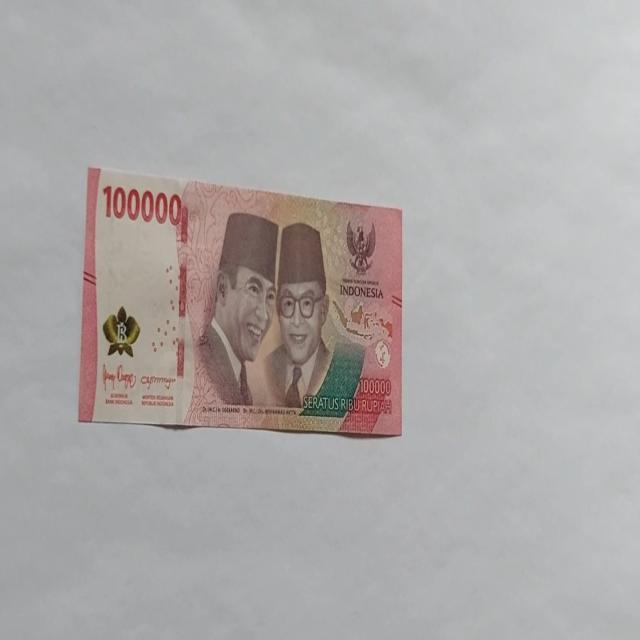seratus ribu rupiah: (78, 165, 404, 436)
